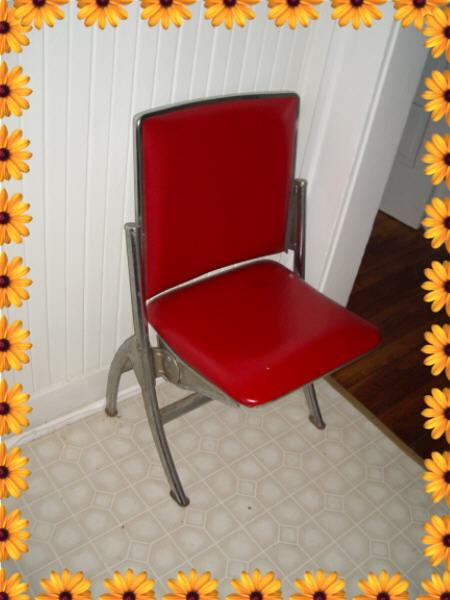chair: (105, 91, 382, 507)
